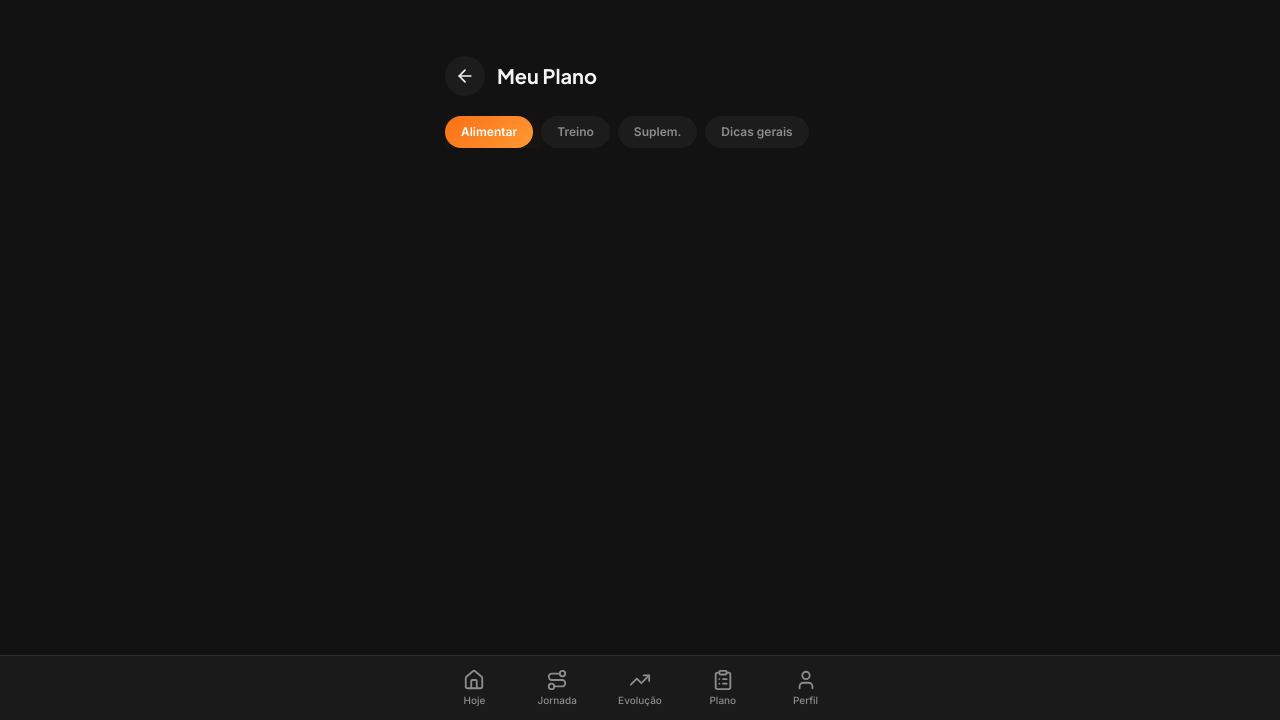
Test: Meu Plano / aba Treino (WP-APP-4 item 6) › com ficha publicada: o card volta inteiro
The image size is (1280, 720).
Click the button "Treino".
click(576, 132)  # box top-left (541, 116), bottom-right (610, 148)
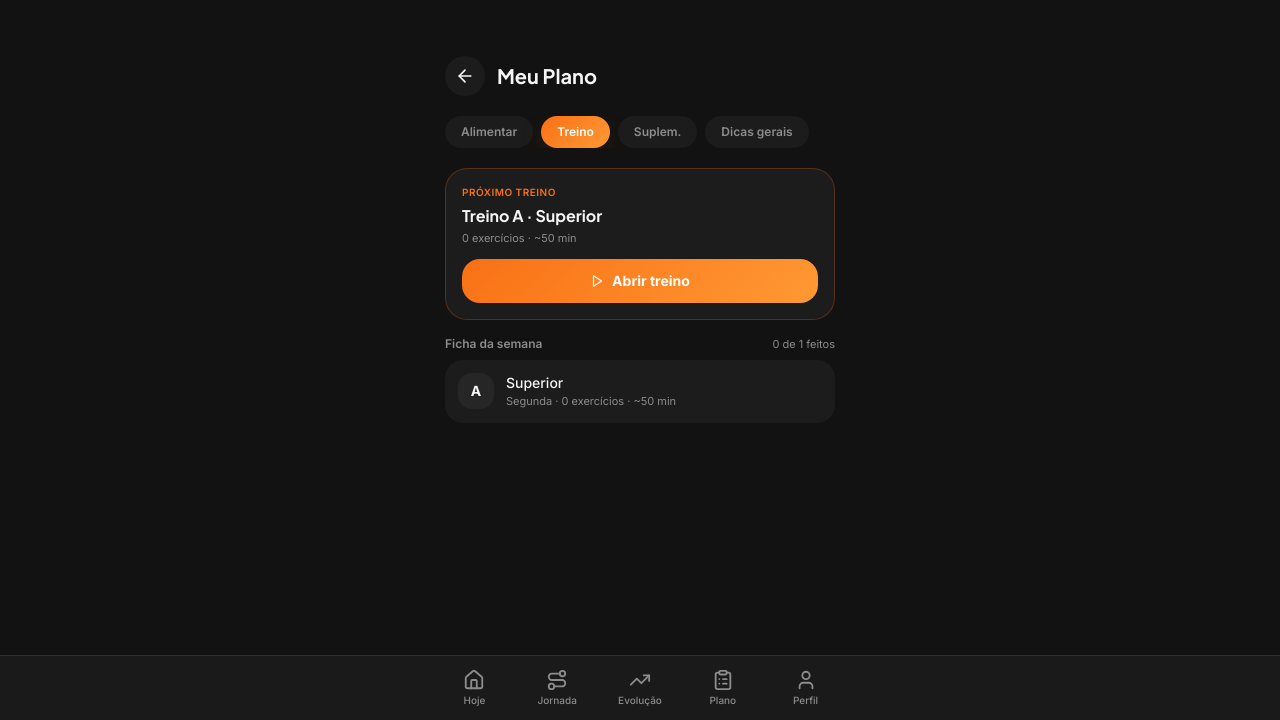
Expected: the button "Abrir treino" is shown, top-left (462, 258), bottom-right (818, 302)
